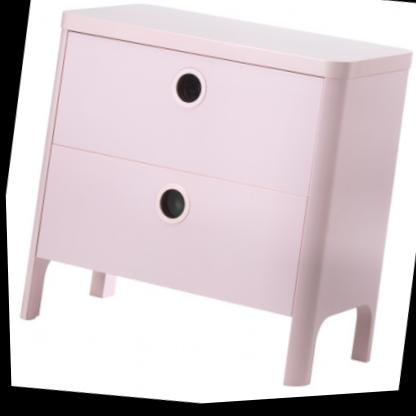Cabinet: (3, 0, 416, 416)
